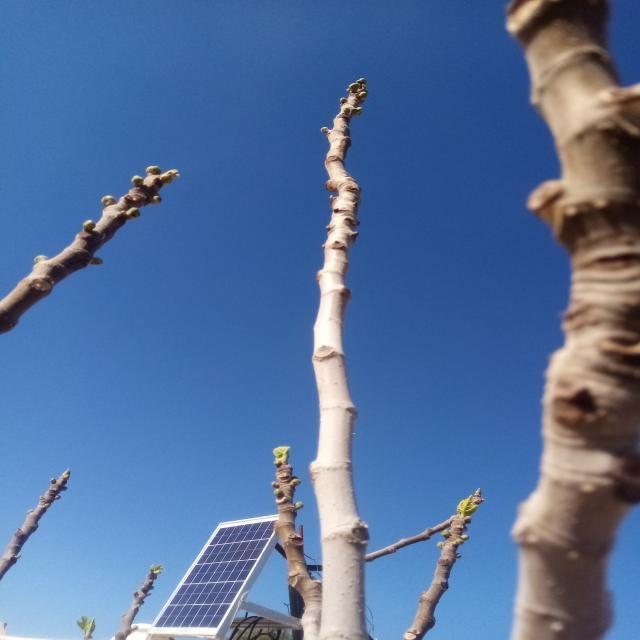Normal Solar Panel: (146, 514, 278, 635)
